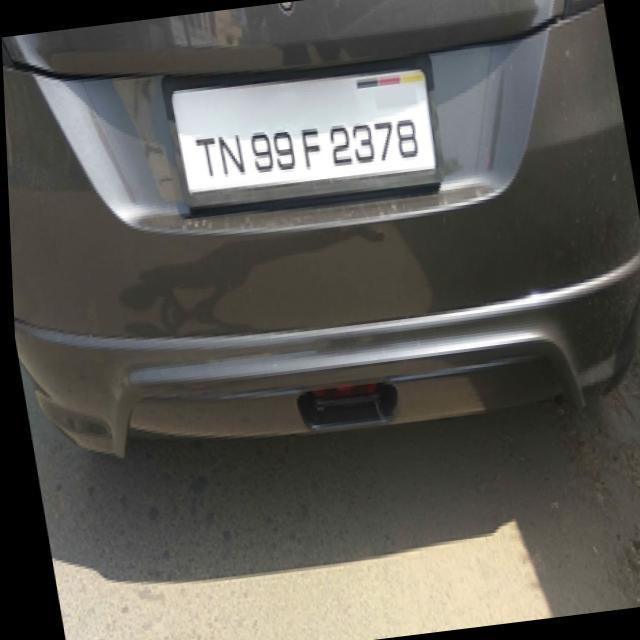license_plate: (169, 64, 434, 198)
